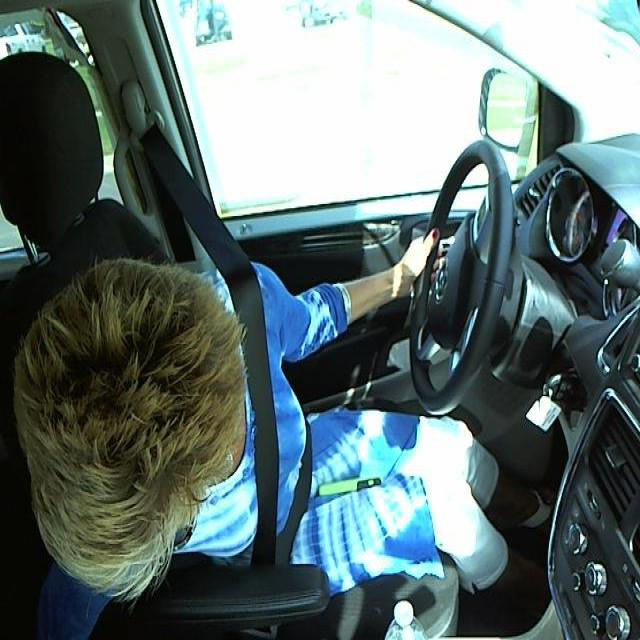seatbelt: (221, 300, 334, 559)
